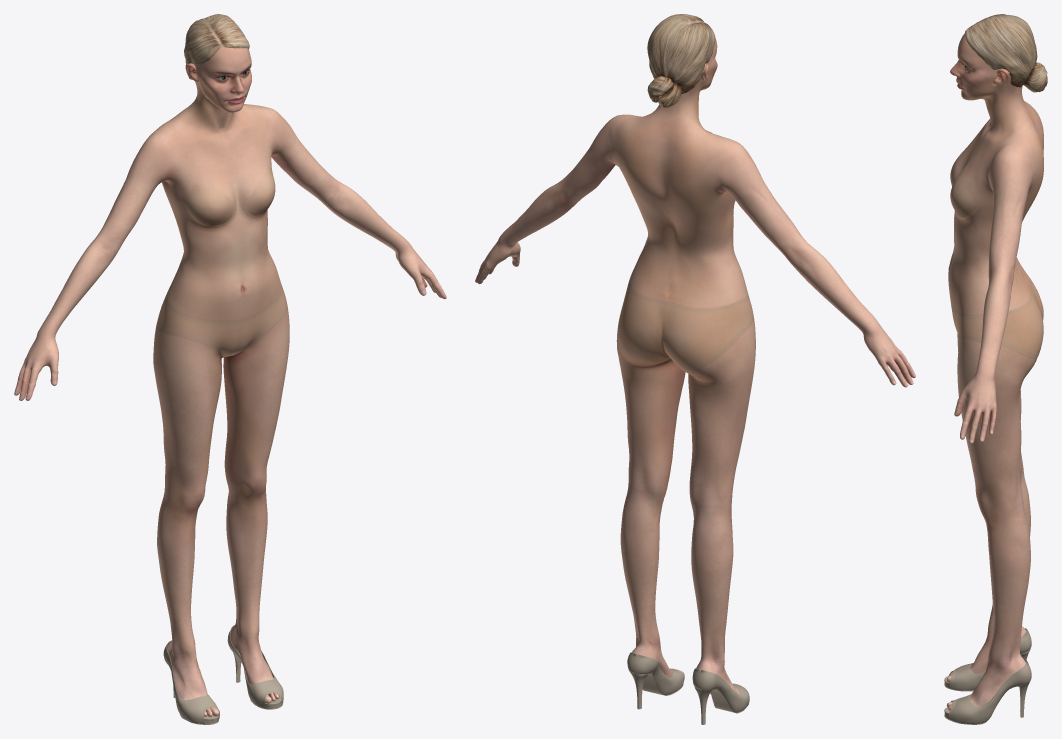
File: Body.gltf
3 renders of one model, left to right at view 1: azimuth 30°, elevation 25°; view 2: azimuth 150°, elevation 25°; view 3: azimuth 270°, elevation 25°, orthographic.
Parts seen in each view (by area): view 1: avatar-women; view 2: avatar-women; view 3: avatar-women.
Boxes of the visible parts, x1,y1,x2,y2 form: avatar-women: (14, 14, 446, 724); avatar-women: (475, 14, 915, 724); avatar-women: (944, 14, 1047, 724).
Size of the model in its own units: 7.3 by 11.16 by 1.53.
Materials: 11 (11 with a texture image).
